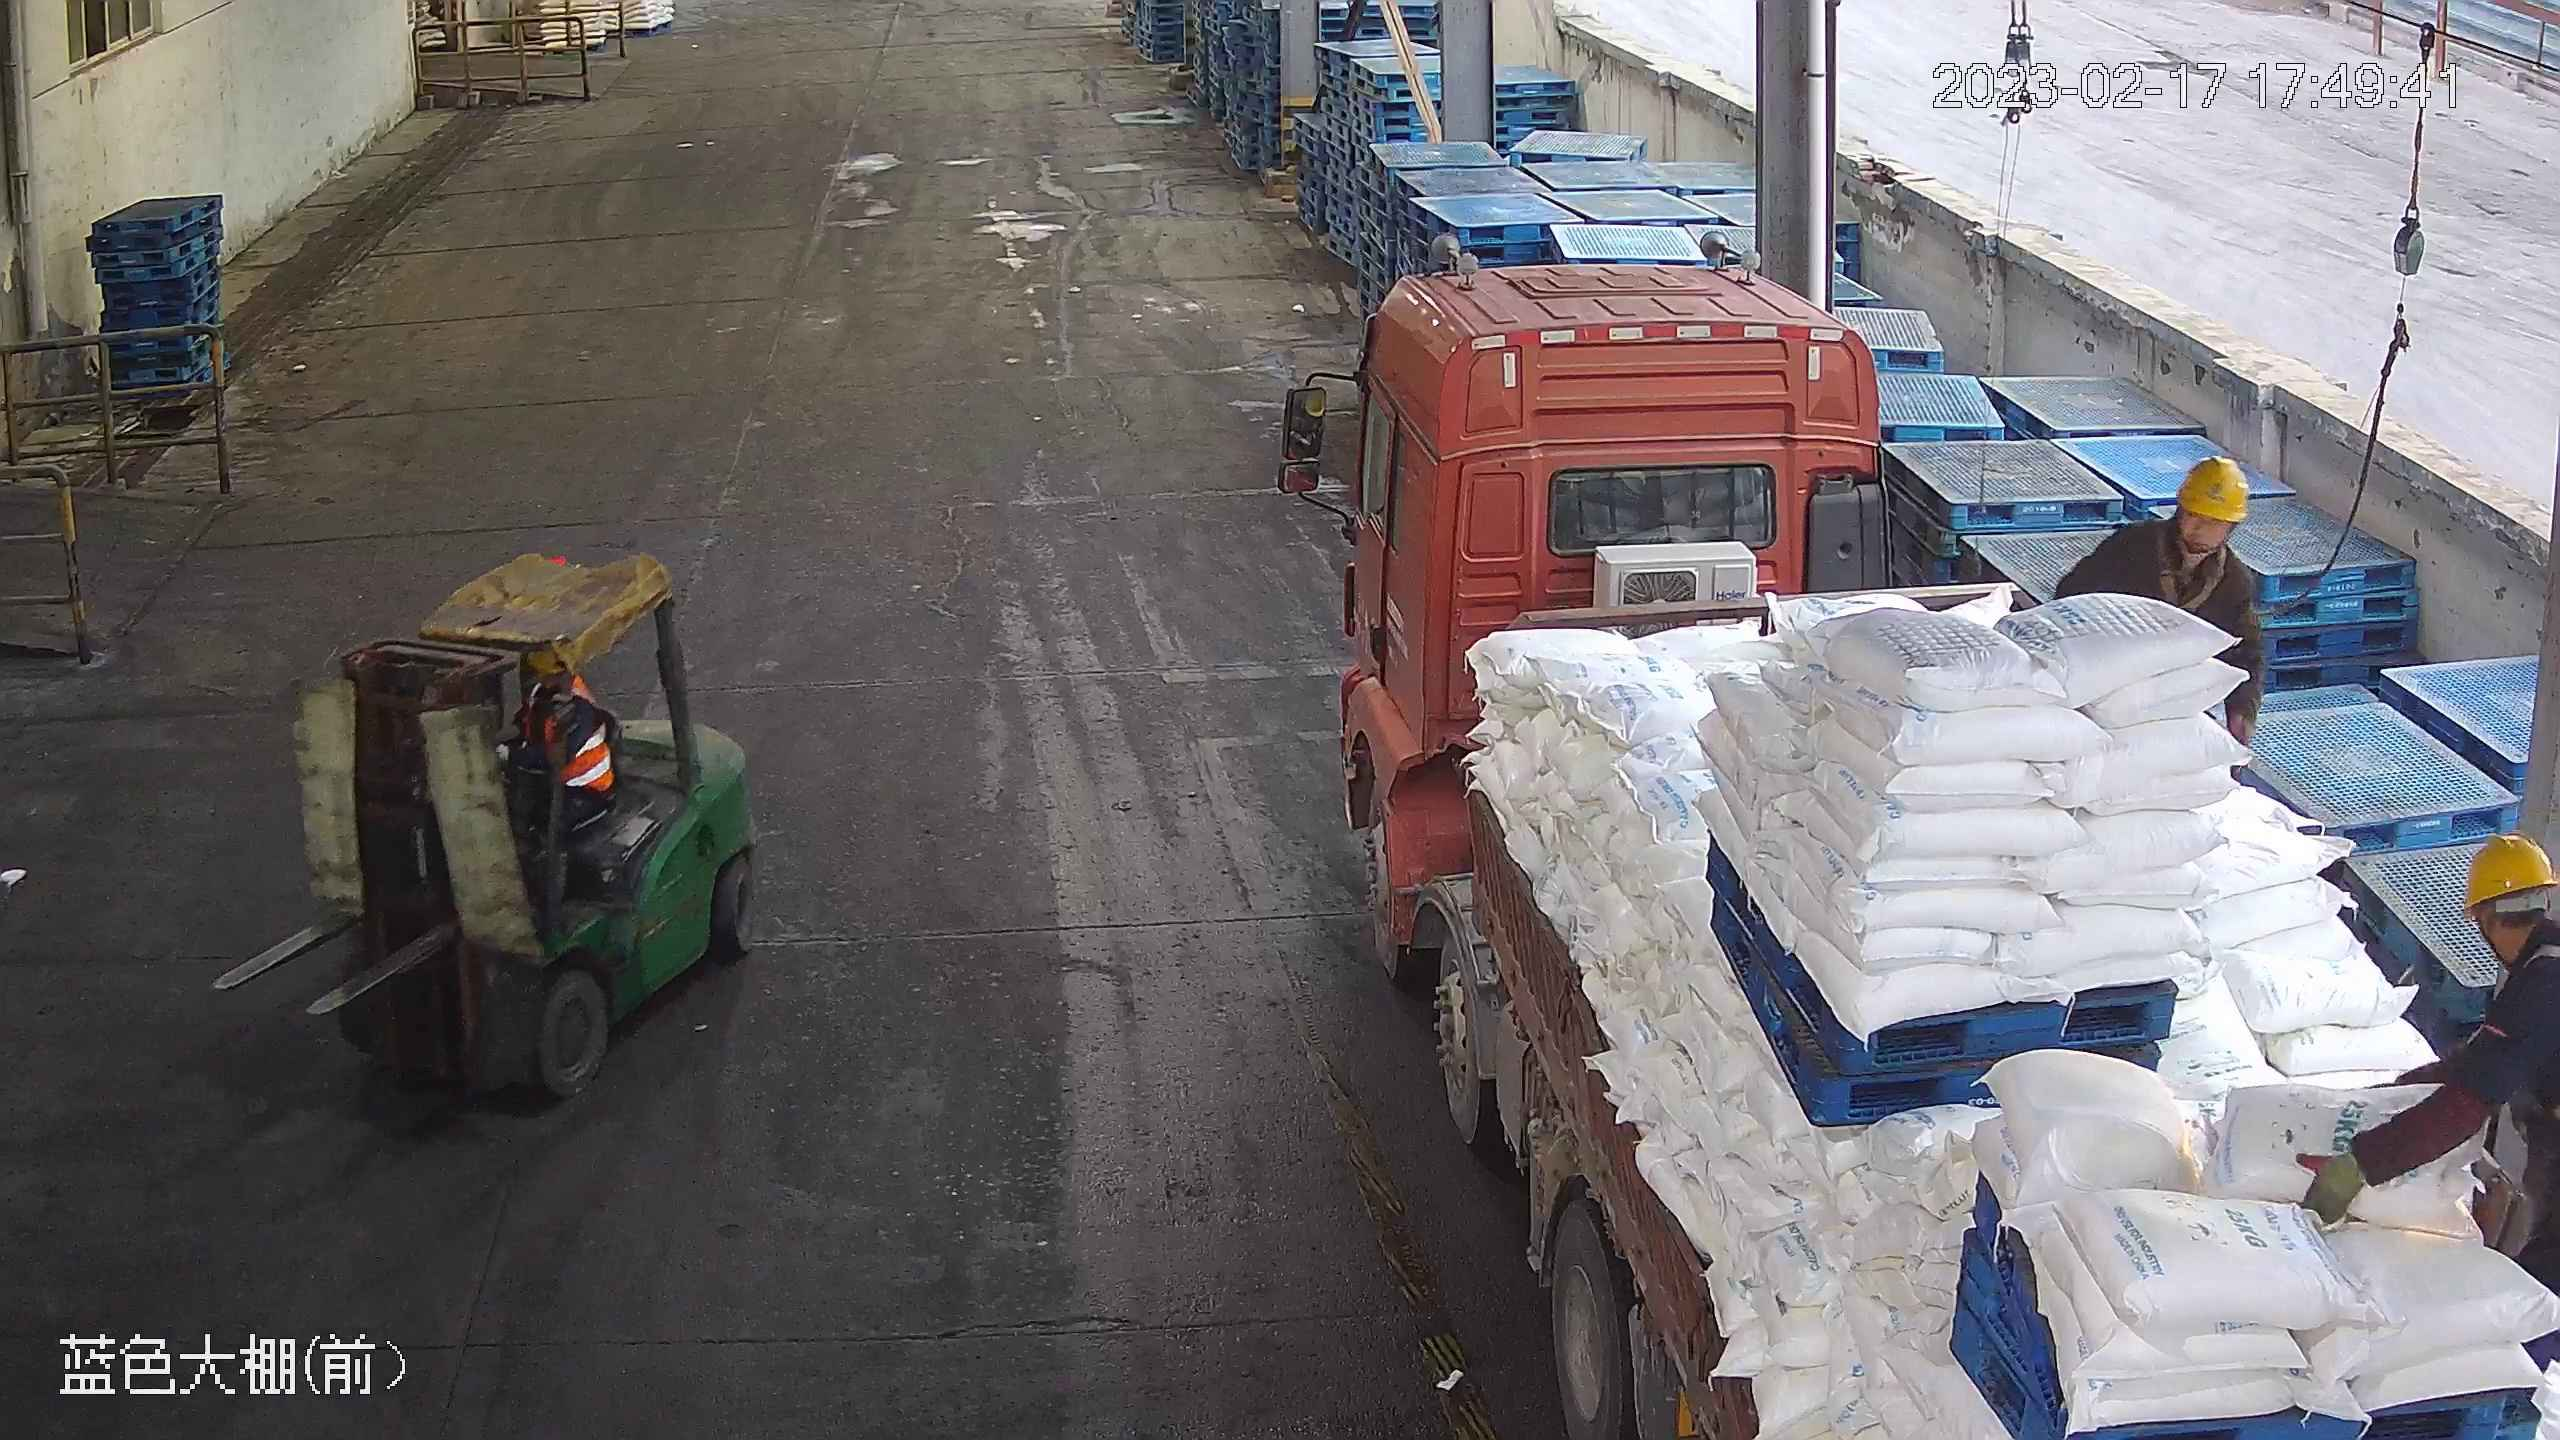belt: (2495, 932, 2560, 1117), (2151, 523, 2234, 612)
head: (2097, 449, 2256, 593), (2454, 830, 2560, 1036)
helmet: (2455, 831, 2560, 914), (2175, 450, 2254, 523)
people: (2294, 832, 2560, 1436)
truck: (1271, 255, 2560, 1440)
